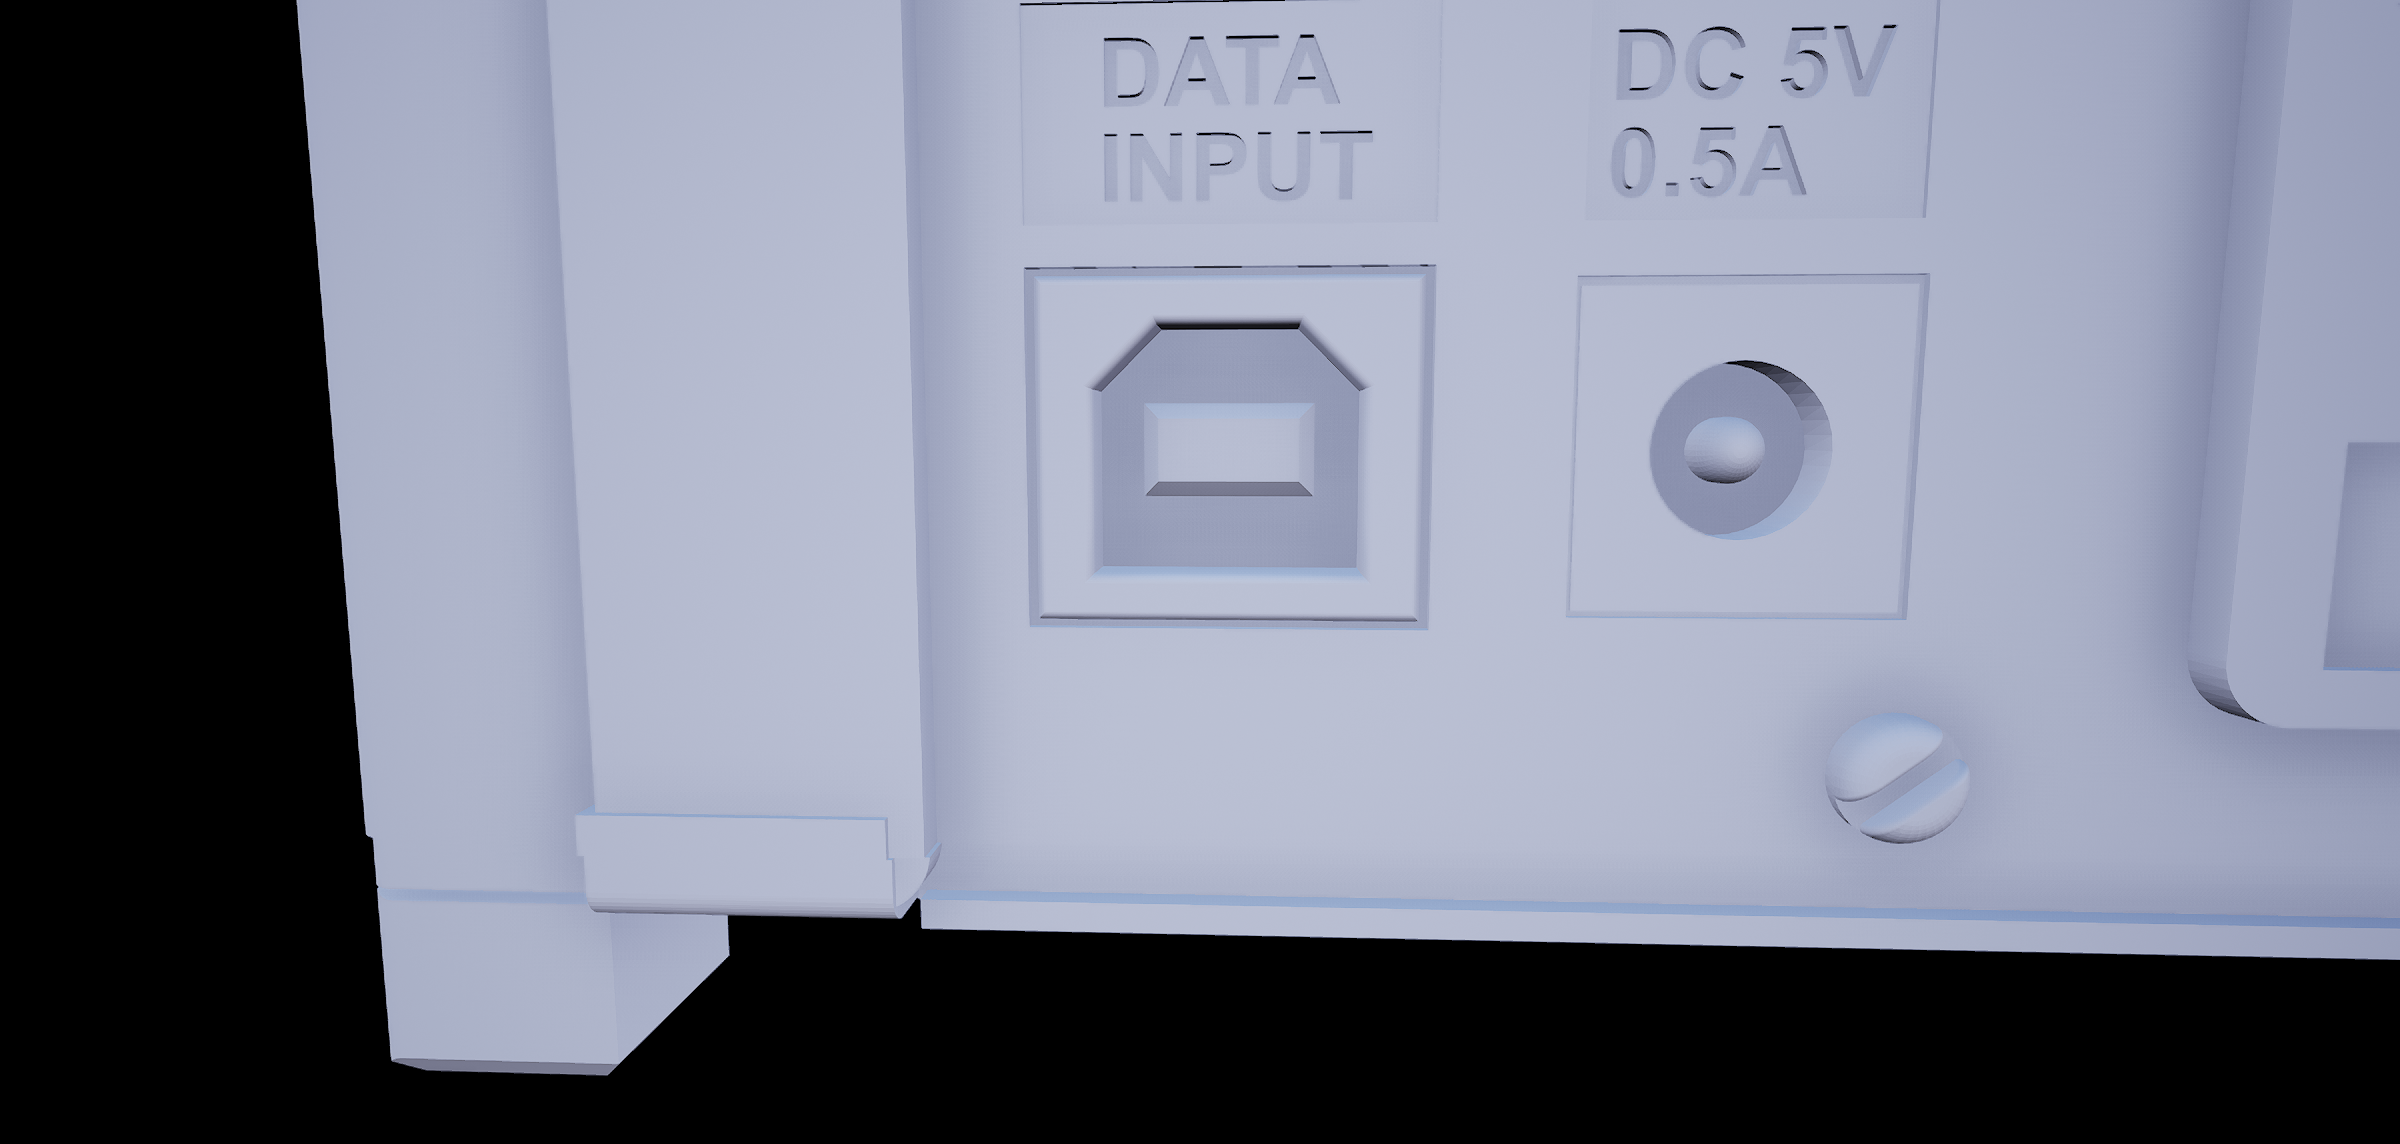dc: (1636, 332, 1832, 567)
usb: (1085, 303, 1390, 594)
